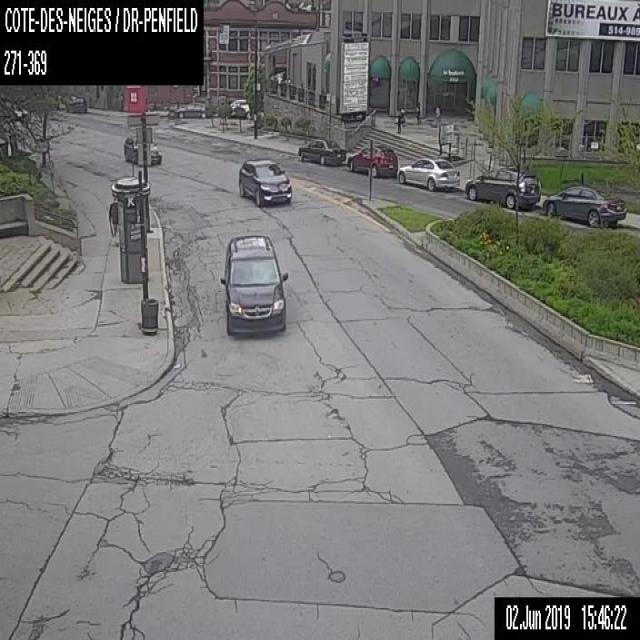vehicle: (219, 233, 289, 332), (541, 182, 626, 225), (464, 164, 540, 208), (238, 157, 292, 205), (397, 156, 460, 190), (347, 143, 397, 175), (298, 137, 345, 164), (122, 134, 161, 164), (173, 97, 206, 119), (227, 97, 251, 119), (70, 96, 86, 111)
